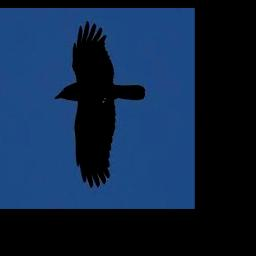Crow: (55, 21, 145, 188)
